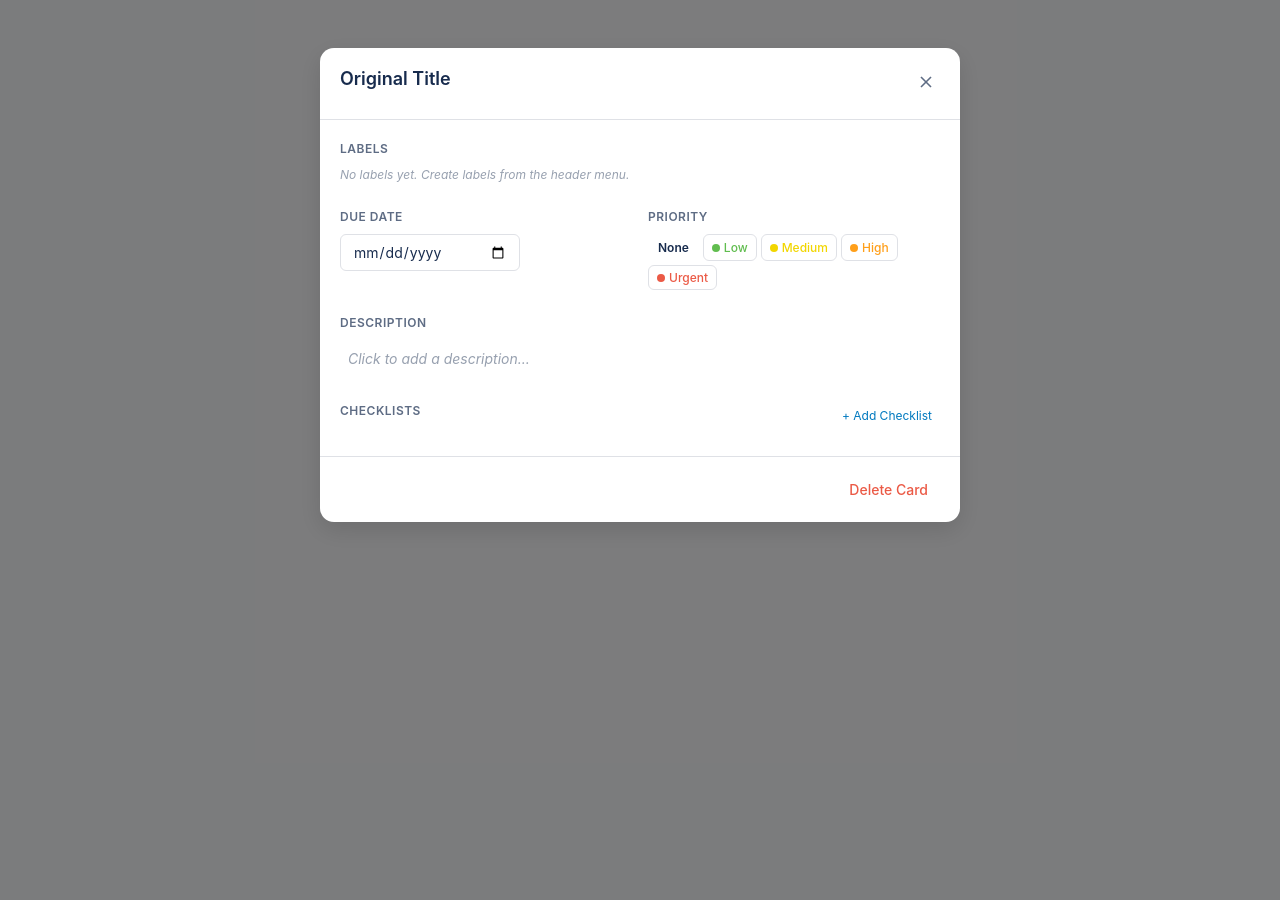
Test case: CardDetail › should enter edit mode for title on double-click
Double-click the heading "Original Title": (395, 78) [340,68,451,89]
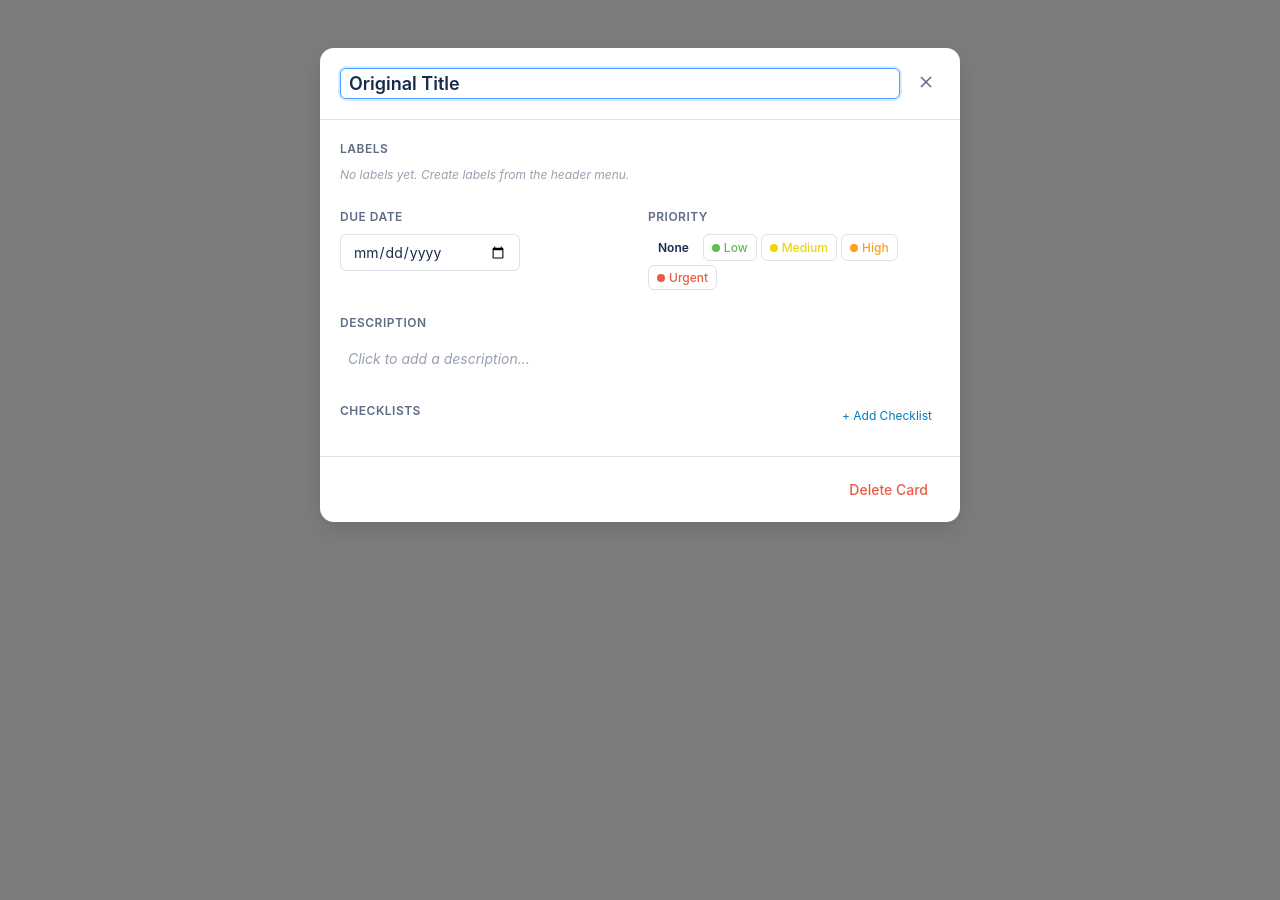
Now the field showing "Original Title" is shown, box [340,68,900,99]
